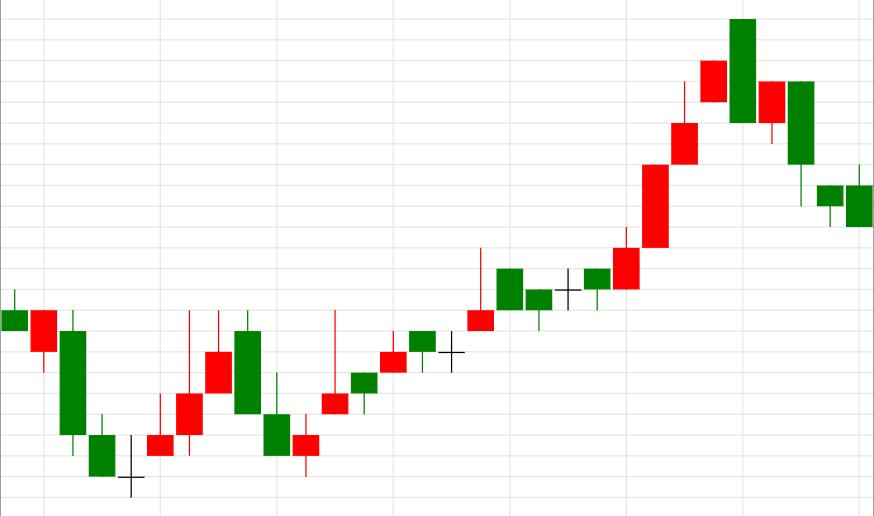bearish_engulfing_fall: (438, 19, 756, 372)
